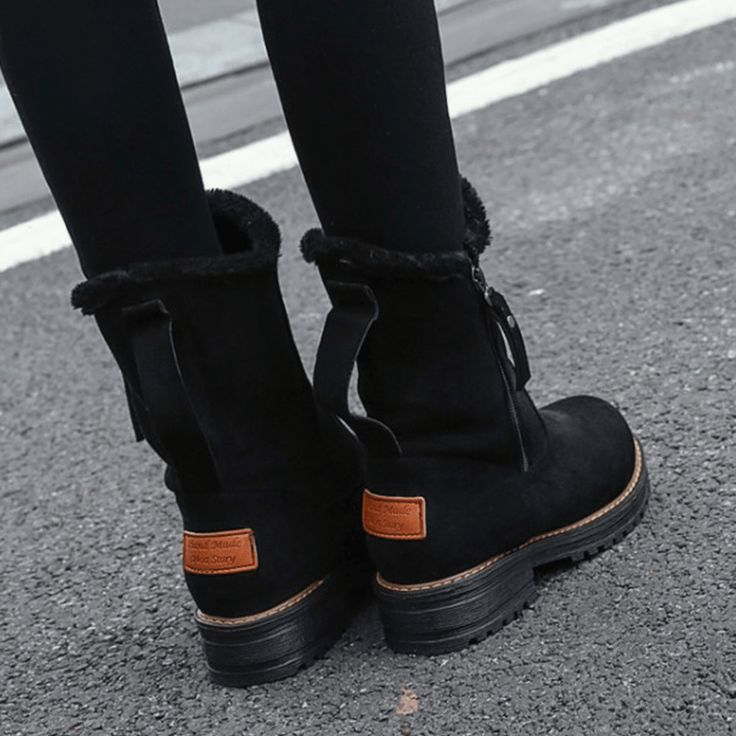gamuza: (72, 242, 641, 621)
